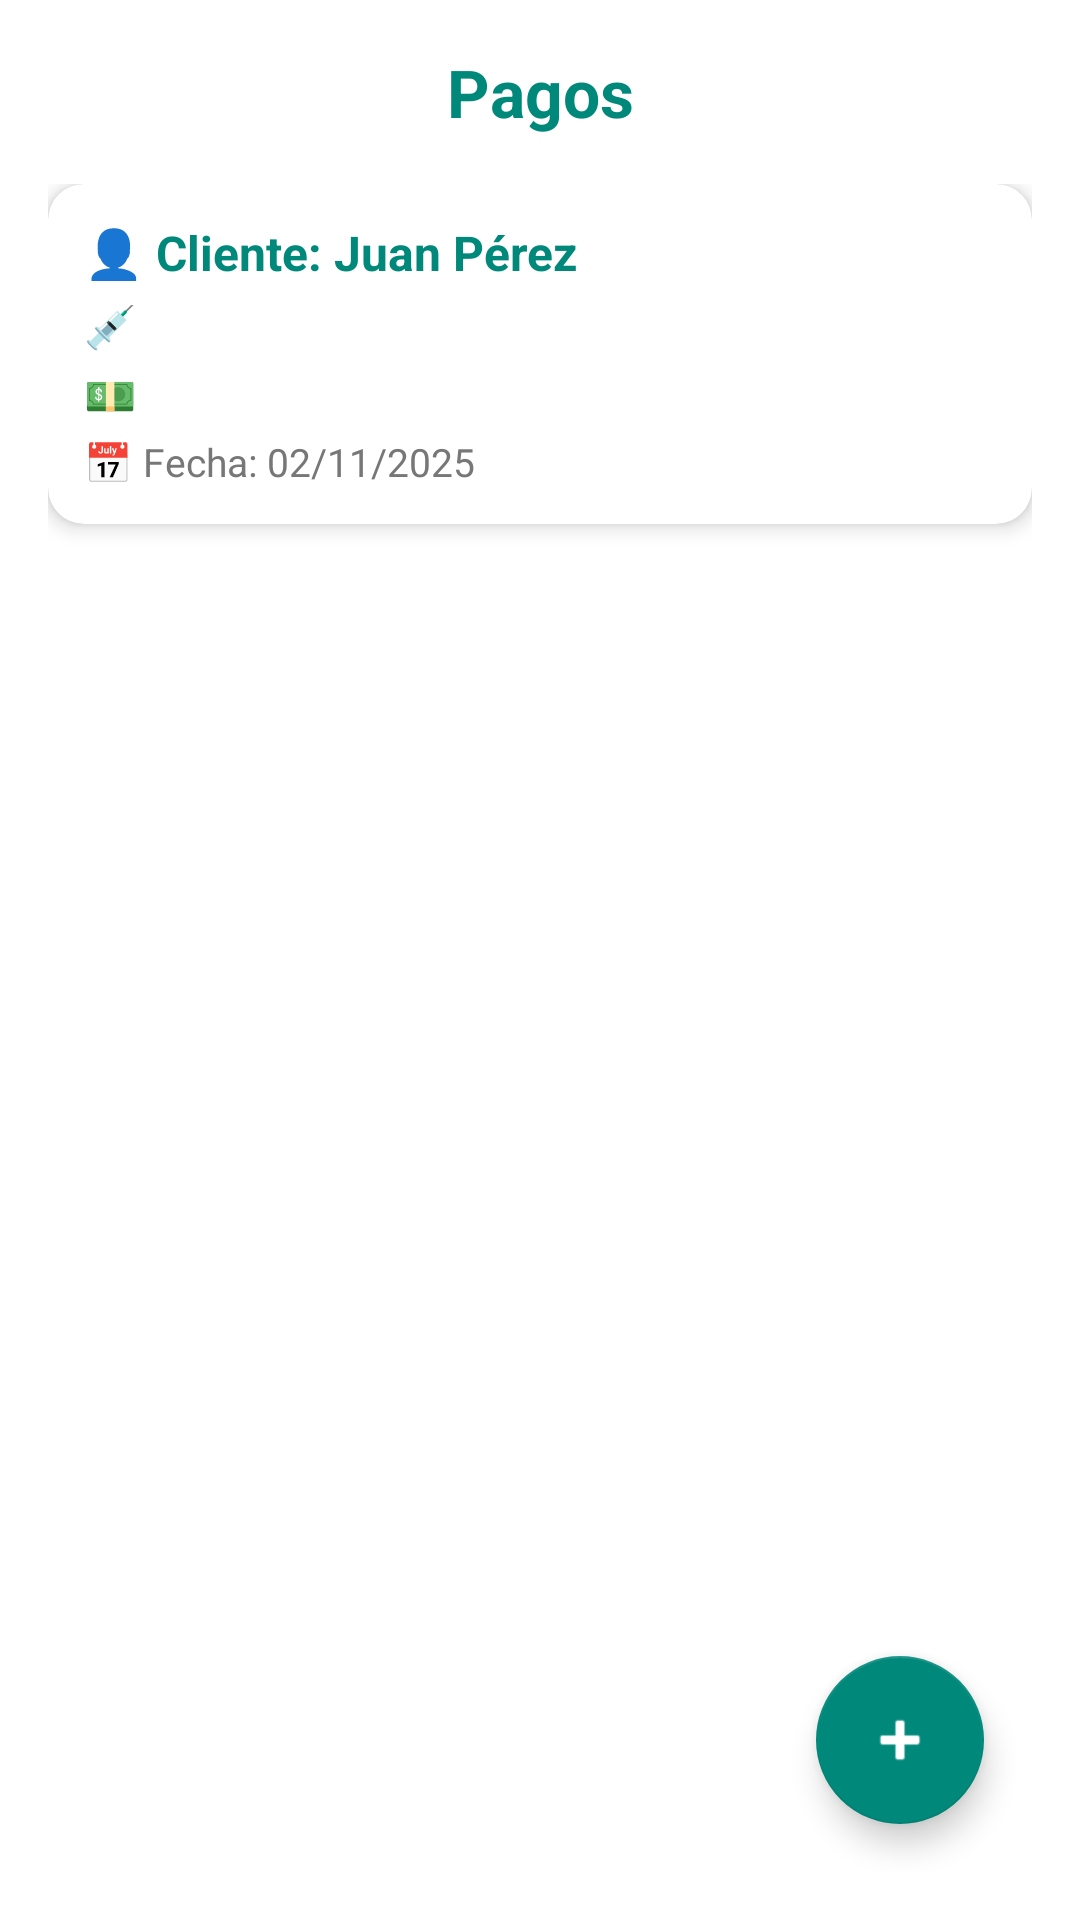

Point at icon controls on the screen. Image size 1080×1920, points as (x=x, y=y).
Agregar nuevo pago: (x=900, y=1740)
